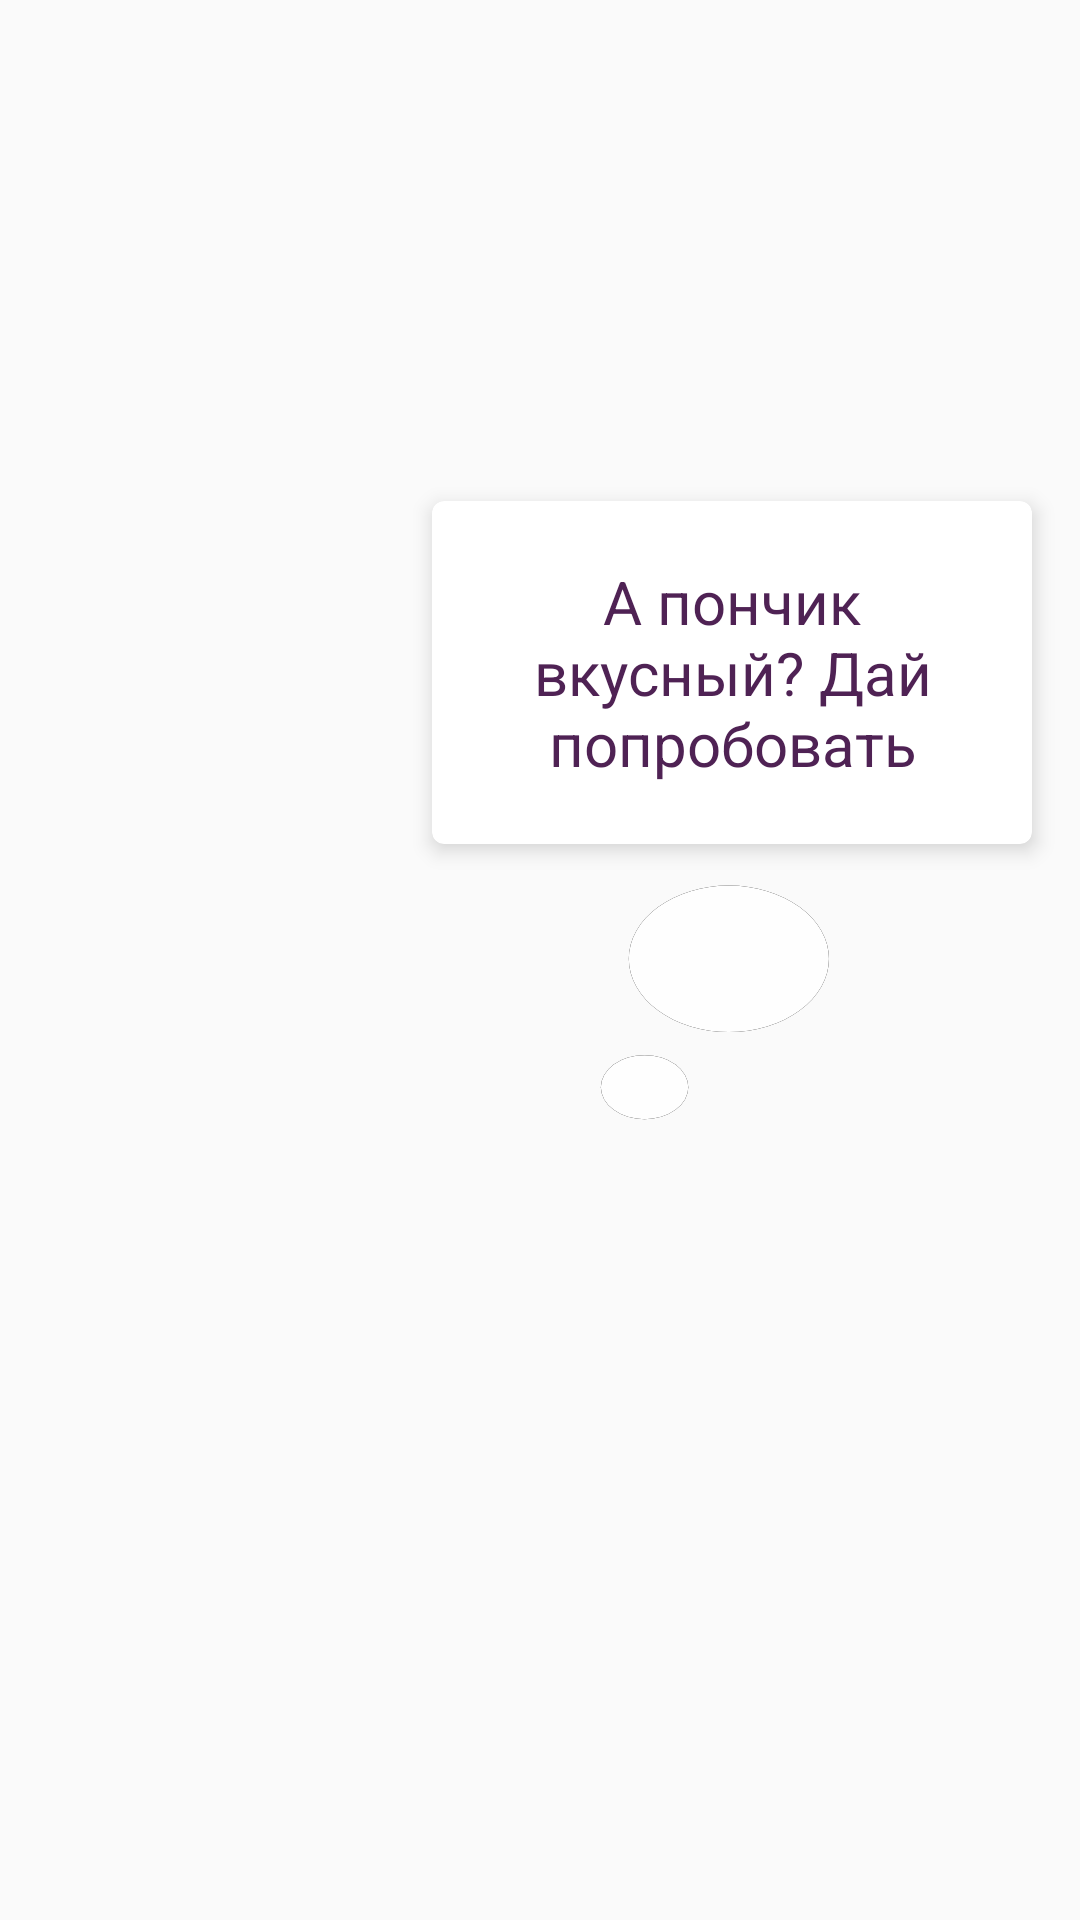

Icon click points for this 1080px×1920px phone screenshot, format [x,y]:
circle idea: [714,1002]
